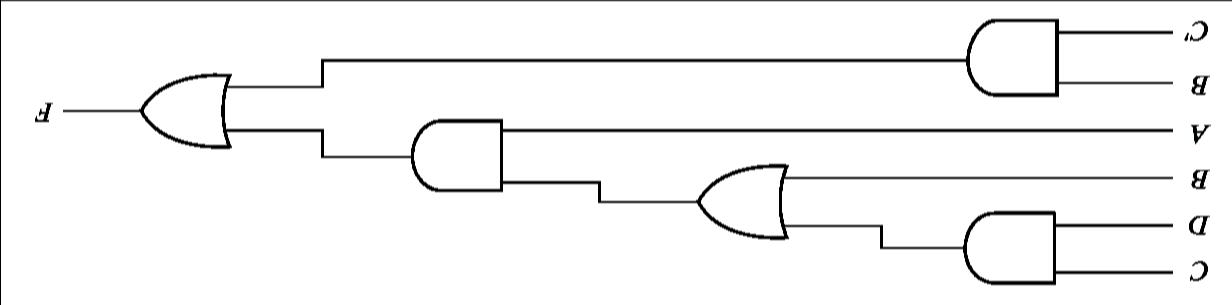and: (960, 14, 1062, 101), (958, 205, 1060, 290), (405, 115, 505, 196)
or: (690, 158, 792, 244), (132, 70, 236, 154)
